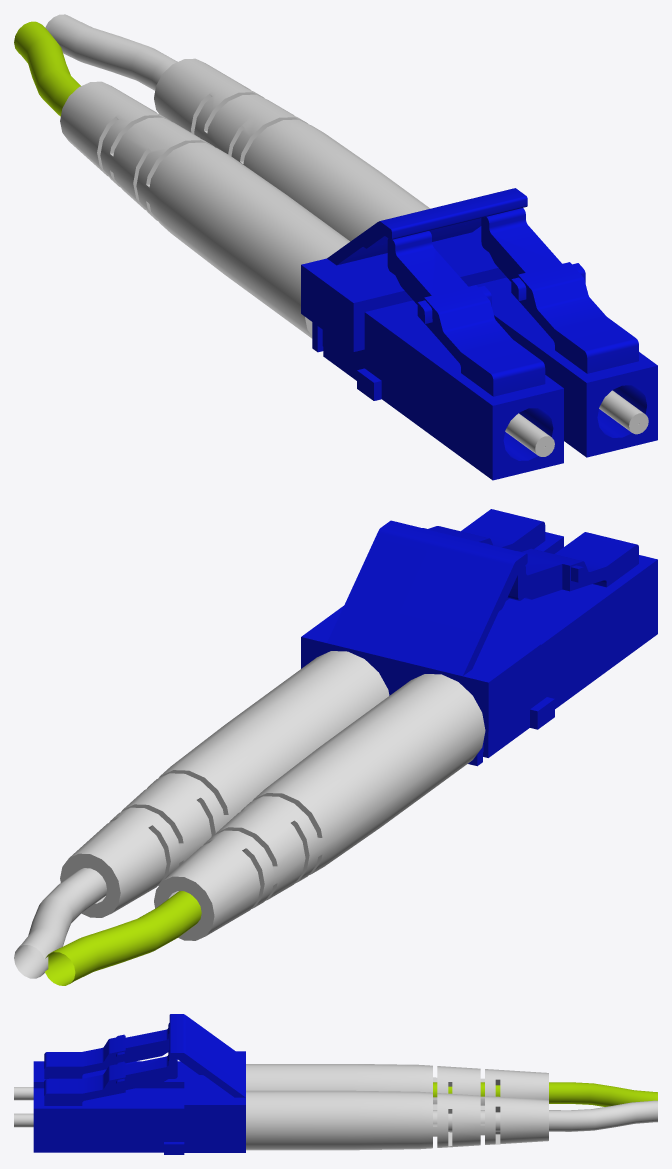
The model's file is LC Connector_LP.fbx.
3 renders of one model, top to bottom at view 1: azimuth 30°, elevation 25°; view 2: azimuth 150°, elevation 25°; view 3: azimuth 270°, elevation 25°, orthographic. The views are drawn at different scales.
Parts seen in each view (by area): view 1: LC Duplex Fiber Connector_LP; view 2: LC Duplex Fiber Connector_LP; view 3: LC Duplex Fiber Connector_LP.
Part boxes in pixels (box(x1,y1,x2,y2)): LC Duplex Fiber Connector_LP: box(14, 14, 657, 480); LC Duplex Fiber Connector_LP: box(14, 509, 657, 985); LC Duplex Fiber Connector_LP: box(14, 1014, 657, 1154).
Bounding box in the file's own units: 1.34 × 1.19 × 6.77.
